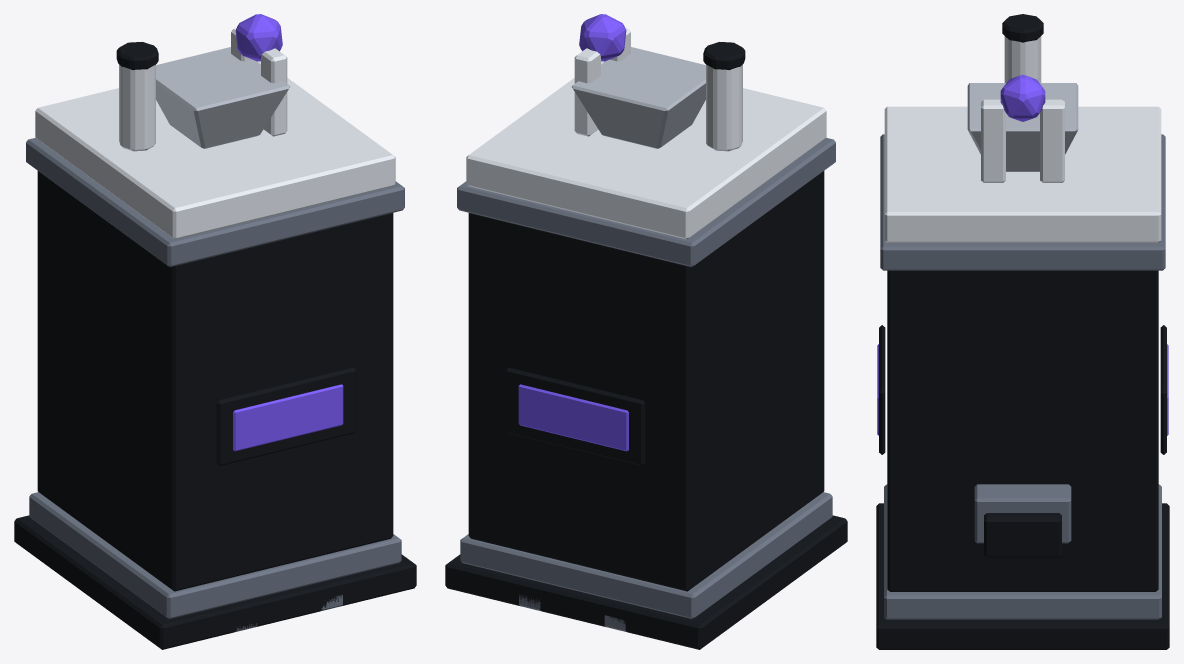
Rendered from dropper-void.glb.
3 views of the same model, side by side, from view 1: azimuth 30°, elevation 25°; view 2: azimuth 150°, elevation 25°; view 3: azimuth 270°, elevation 25° (orthographic).
Parts seen in each view (by area): view 1: dropper-void; view 2: dropper-void; view 3: dropper-void.
Boxes of the visible parts, <box> form: dropper-void: <box>14,14,416,649</box>; dropper-void: <box>445,14,847,649</box>; dropper-void: <box>876,14,1169,649</box>.
Size of the model in its own units: 1.04 by 1.89 by 0.94.
